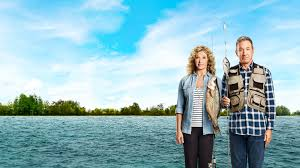standing: (220, 34, 280, 168), (167, 38, 221, 168)
